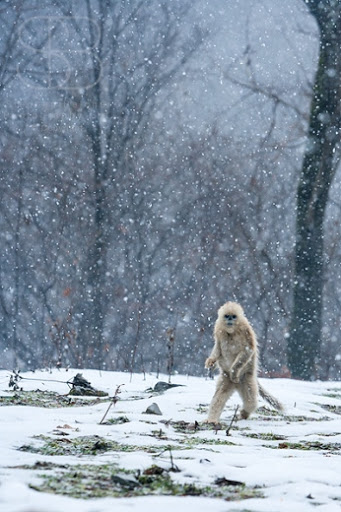GoldenSnub-Nosed: (208, 296, 275, 420)
